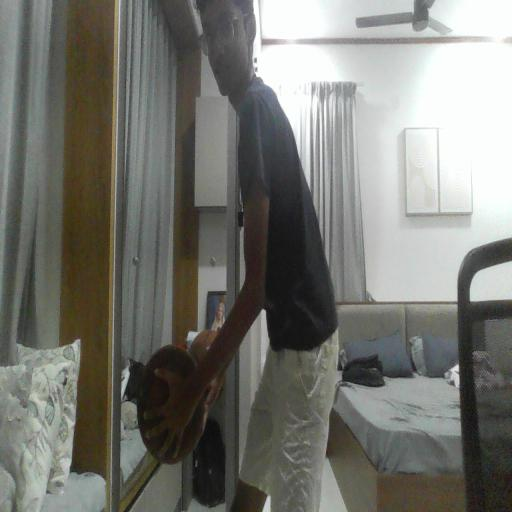basketball: (138, 345, 204, 464), (189, 330, 217, 361)
